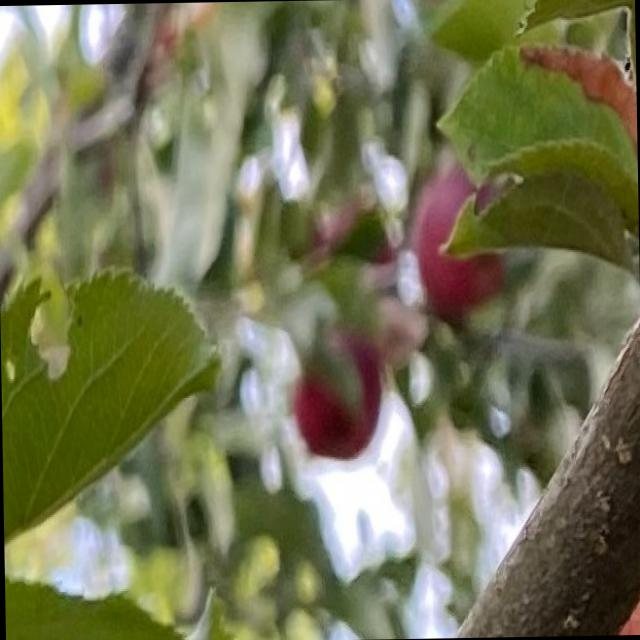Apples: (415, 170, 507, 316), (296, 337, 379, 459)
